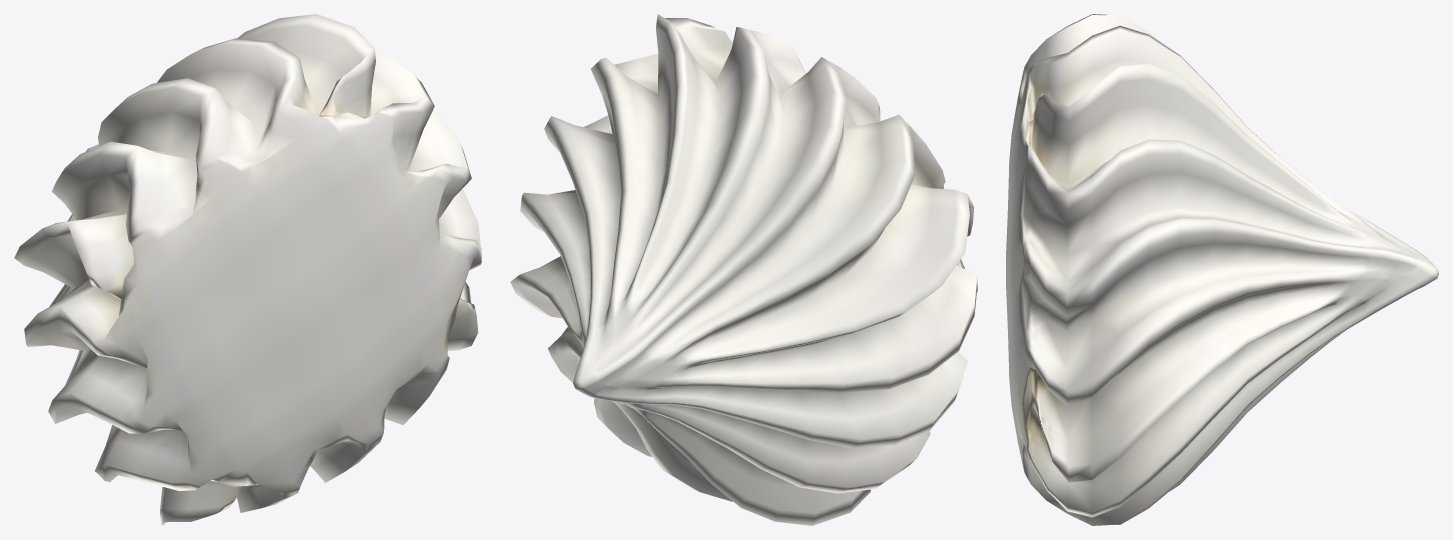
Rendered from piping-shell-swirl.glb.
3 renders of one model, left to right at view 1: azimuth 30°, elevation 25°; view 2: azimuth 150°, elevation 25°; view 3: azimuth 270°, elevation 25°, orthographic.
Visible parts, largest first — view 1: set1_cream5; view 2: set1_cream5; view 3: set1_cream5.
Boxes of the visible parts, bbox=[...] form: set1_cream5: bbox=[14, 14, 481, 525]; set1_cream5: bbox=[510, 14, 977, 525]; set1_cream5: bbox=[1006, 14, 1438, 525].
Size of the model in its own units: 0.0198 by 0.0198 by 0.0162.
1 material, 1 textured.
